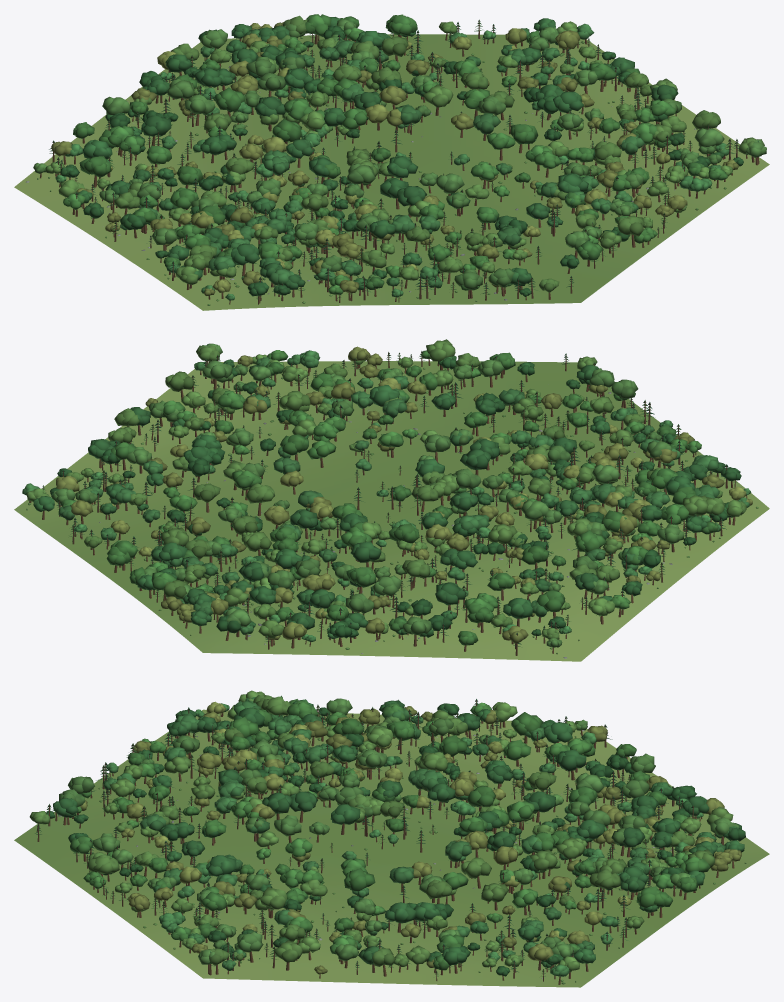
3 views of the same model, one above another, from view 1: azimuth 30°, elevation 25°; view 2: azimuth 150°, elevation 25°; view 3: azimuth 270°, elevation 25° (orthographic).
Visible parts, largest first — view 1: broadleaf_canopy, terrain, trunks, conifer_canopy; view 2: broadleaf_canopy, terrain, trunks, conifer_canopy; view 3: broadleaf_canopy, terrain, trunks, conifer_canopy.
Boxes of the visible parts, box(x1,y1,x2,y2) form: broadleaf_canopy: box(33, 14, 766, 300); terrain: box(14, 34, 769, 310); trunks: box(40, 20, 759, 304); conifer_canopy: box(49, 19, 758, 300); broadleaf_canopy: box(22, 339, 752, 647); terrain: box(14, 361, 769, 661); trunks: box(29, 345, 747, 655); conifer_canopy: box(42, 344, 736, 646); broadleaf_canopy: box(29, 690, 745, 976); terrain: box(14, 709, 769, 987); trunks: box(36, 700, 735, 984); conifer_canopy: box(35, 695, 724, 976).
Size of the model in its own units: 4330 by 385 by 5000.
